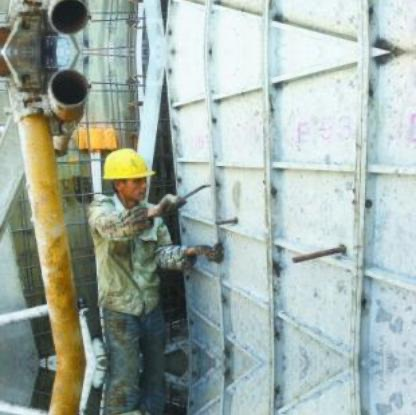Safety Helmet: (96, 143, 158, 213)
